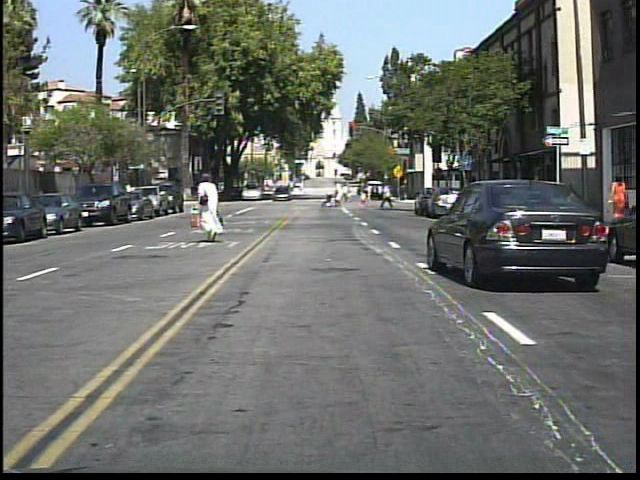person: (189, 168, 231, 250), (607, 167, 633, 231), (499, 170, 518, 219), (378, 180, 395, 211), (332, 180, 345, 210)
